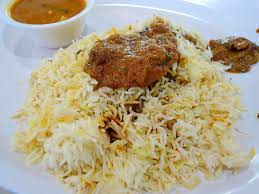briyani: (42, 29, 259, 188)
